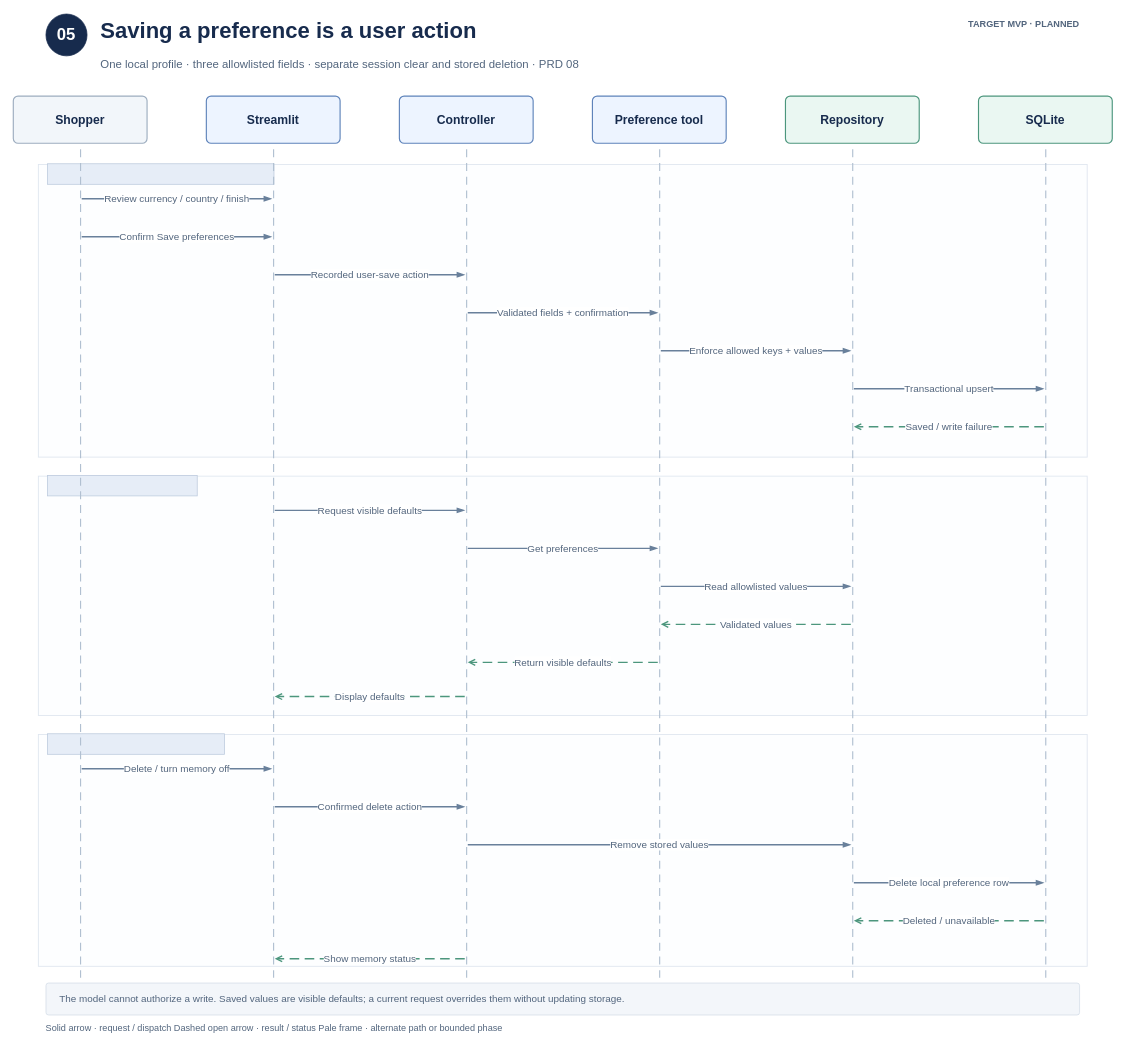
This 1126x1050 diagram has some shape labels left out. The centre of each missing label's shape, as x and y in pixels:
"later session or restart" goes at point (122, 485).
"opt delete or disable memory" goes at point (136, 743).
"opt explicit opt-in and reviewed save" goes at point (160, 173).
